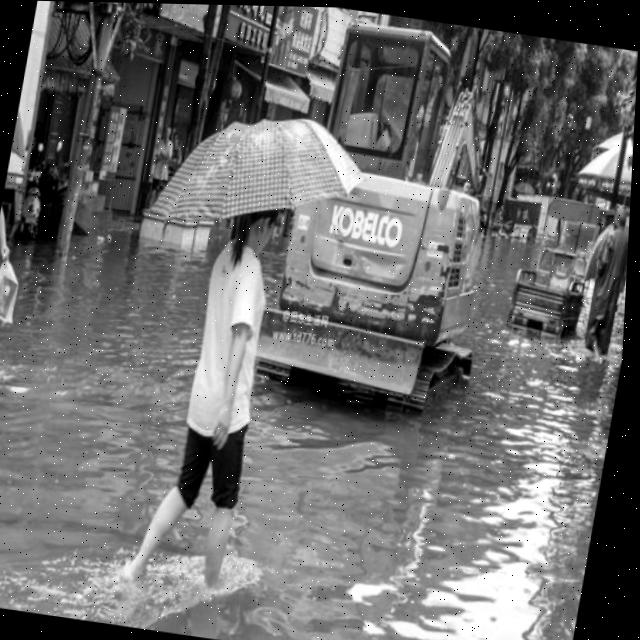civilian: (118, 176, 310, 630), (565, 202, 630, 373), (142, 114, 177, 212)
